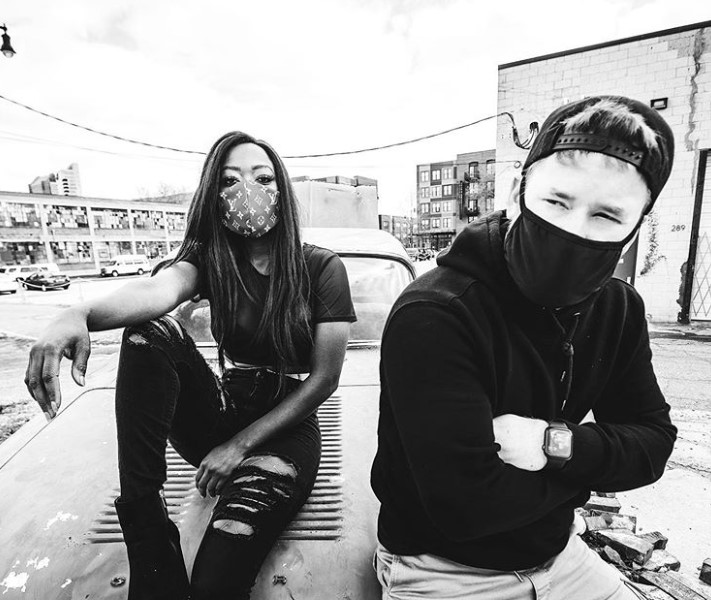face_with_mask: (500, 93, 681, 313), (198, 132, 292, 247)
